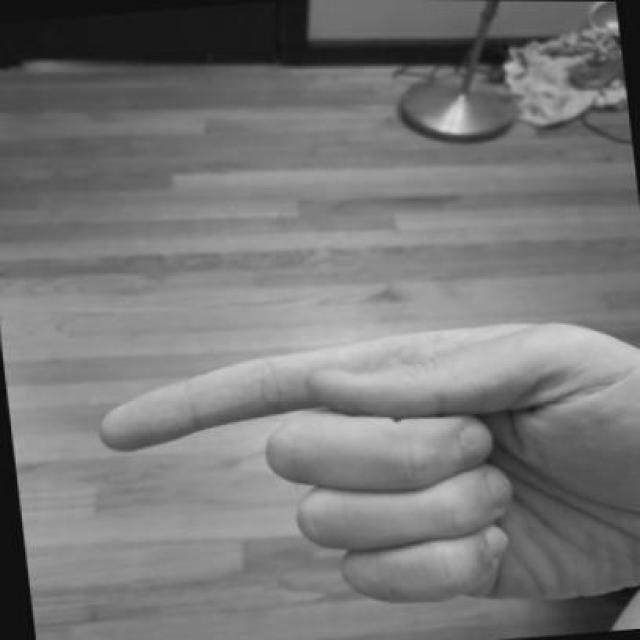G: (71, 292, 639, 638)
